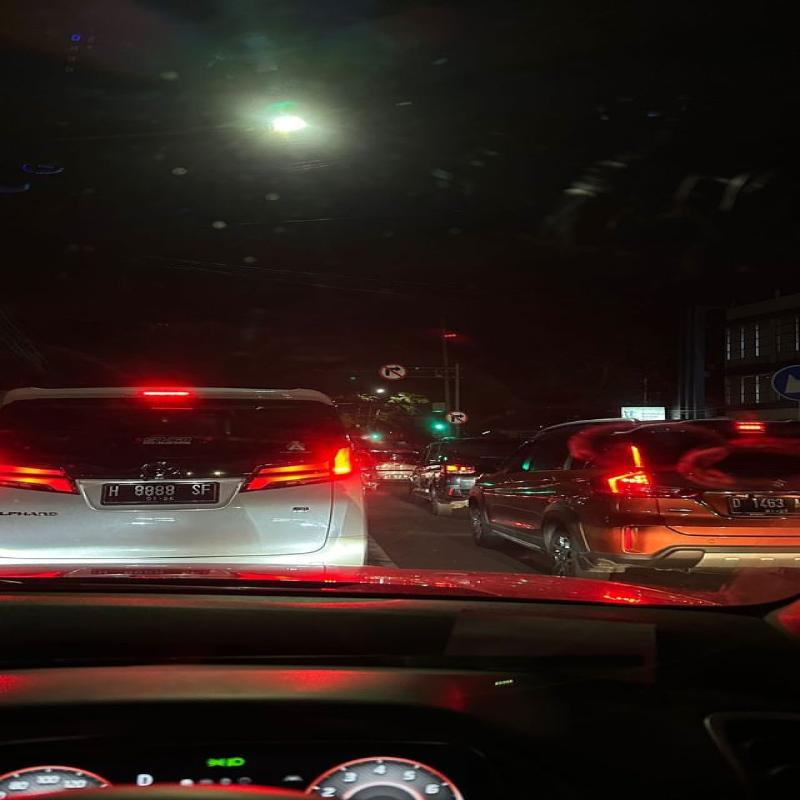license plate on a car: (95, 480, 236, 511)
